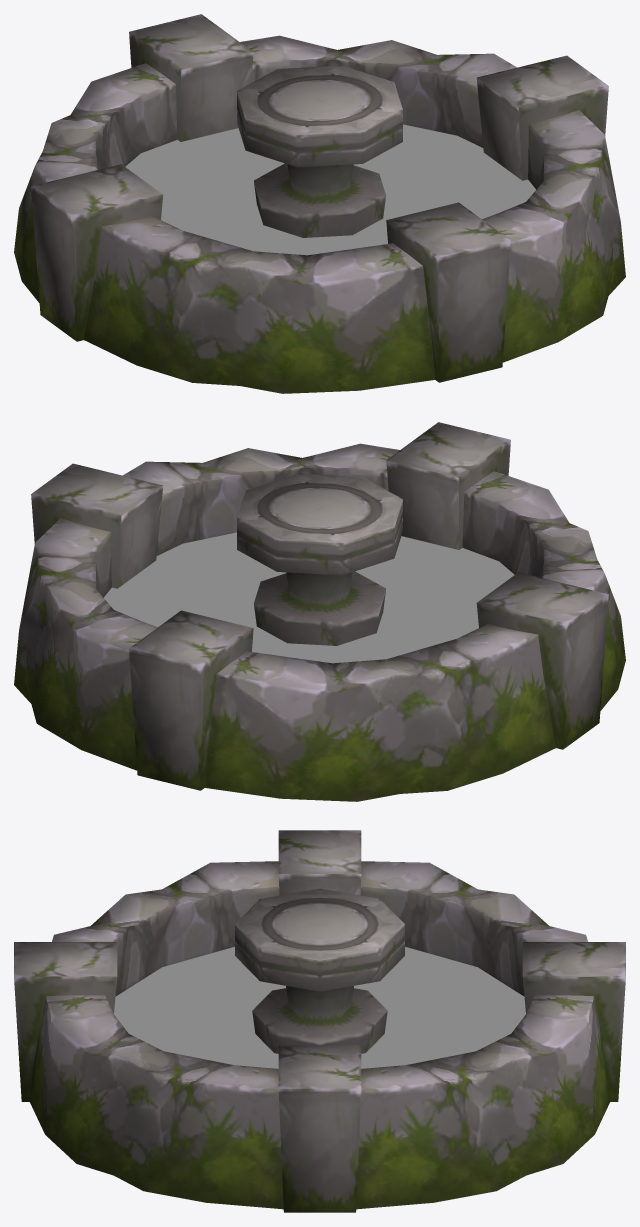
File: GM_pool_01.FBX
The picture shows the model from 3 angles, top to bottom: view 1: azimuth 30°, elevation 25°; view 2: azimuth 150°, elevation 25°; view 3: azimuth 270°, elevation 25°; orthographic projection.
Parts seen in each view (by area): view 1: GM_pool_01; view 2: GM_pool_01; view 3: GM_pool_01.
Boxes of the visible parts, x1,y1,x2,y2 form: GM_pool_01: [14, 14, 625, 393]; GM_pool_01: [14, 422, 625, 801]; GM_pool_01: [14, 830, 625, 1212].
Size of the model in its own units: 552 by 162 by 552.
